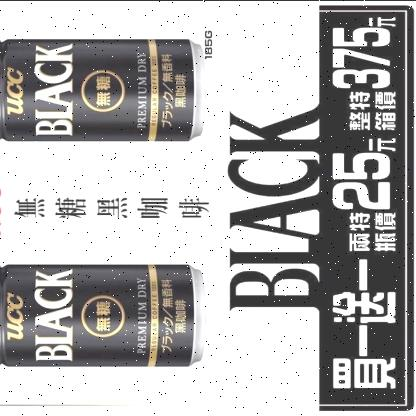Can: (0, 264, 204, 366), (0, 38, 204, 140)
